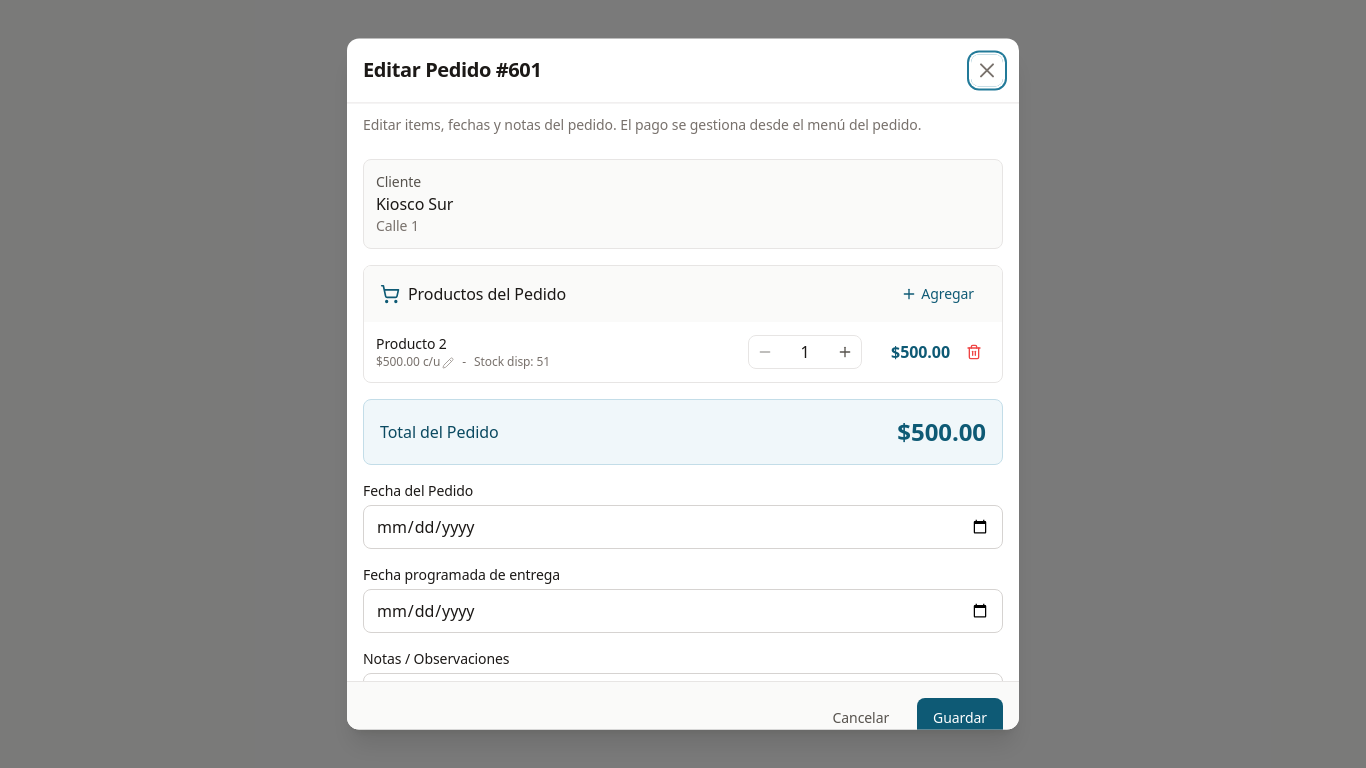
Test: ModalEditarPedido — alta de un producto en la edición › entra con su mínimo de venta (3), no con cantidad 1
Check: the text "Producto 2" is shown, box [376,334,447,354]
Click the button "Agregar" at (938, 294), box [889,278,986,310]
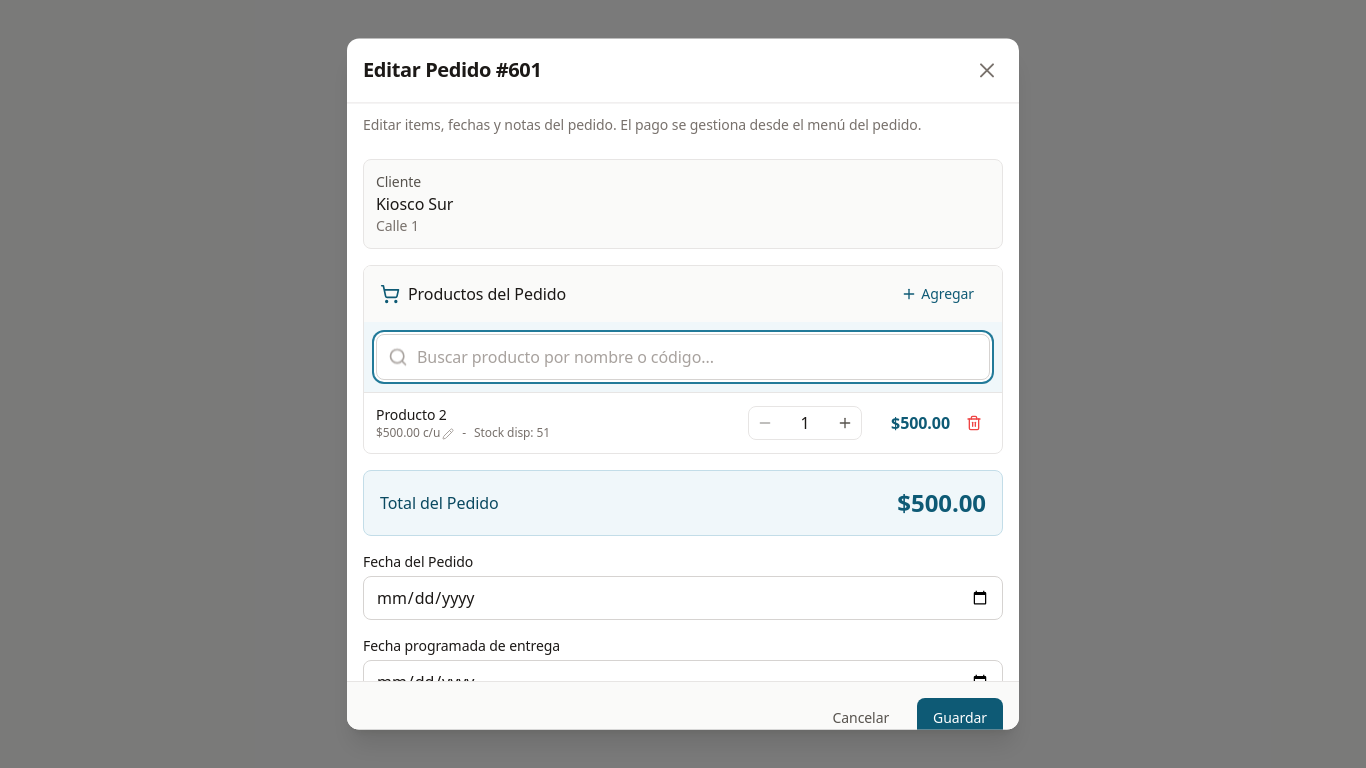
Type "Producto 4" into the field with placeholder "Buscar producto por nombre o código..." at (683, 357), box [376,334,990,380]
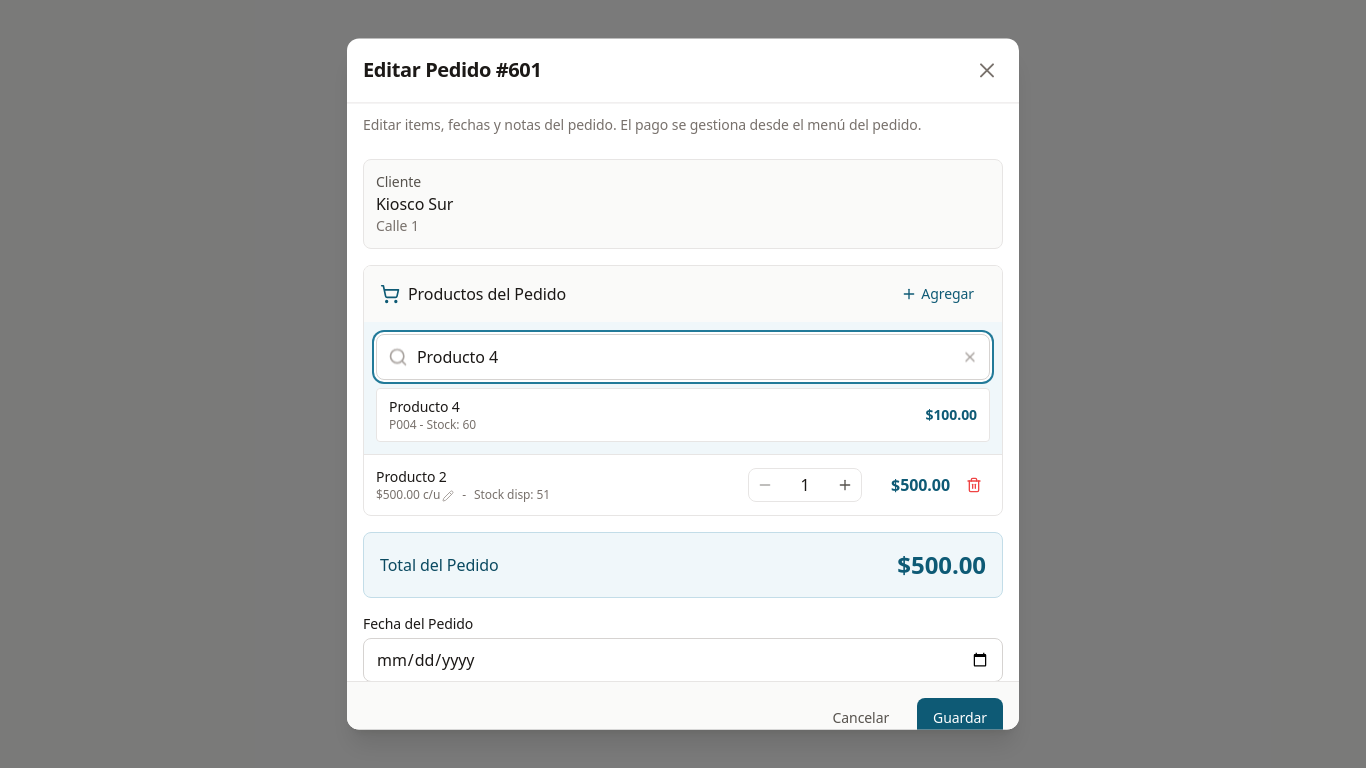
Click the text "P004 - Stock: 60" at (433, 425), box [389,417,476,433]
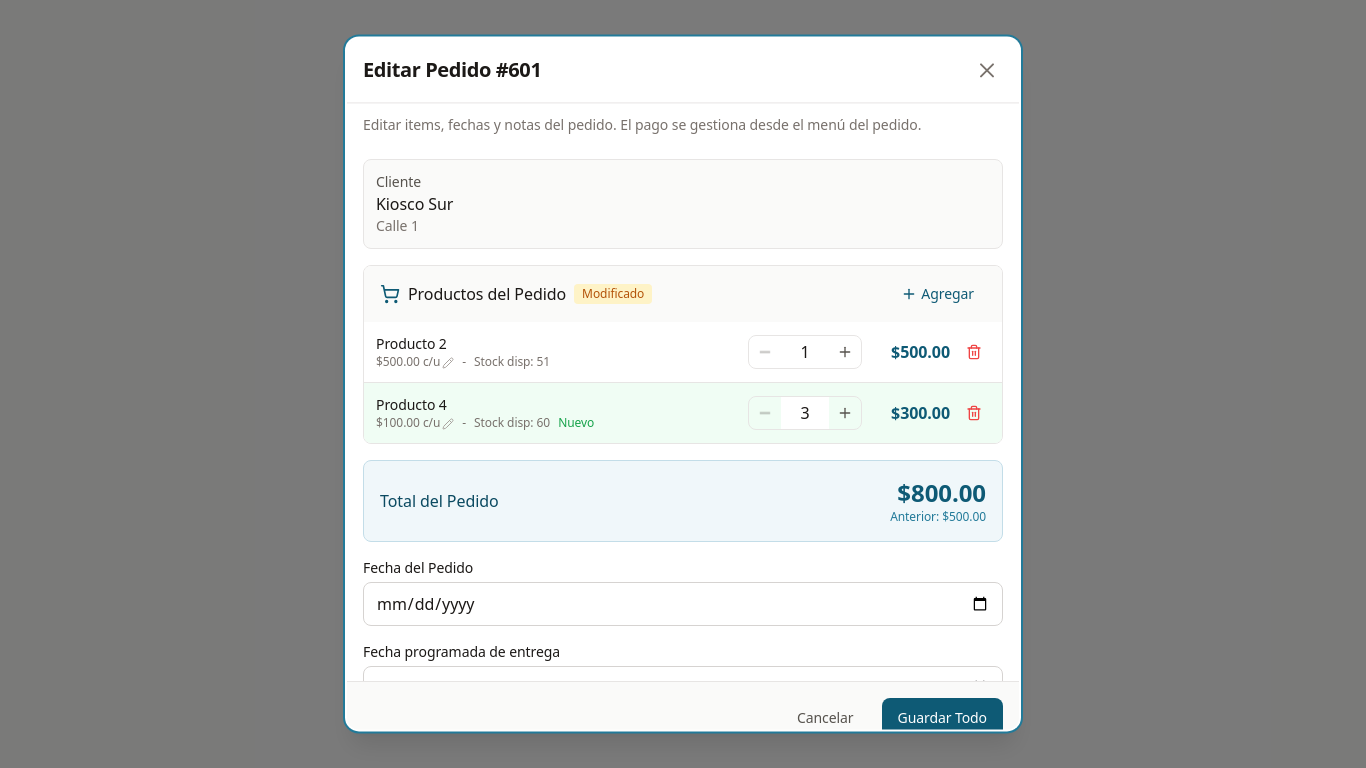
Check: the button "Guardar Todo" is enabled, box [882,698,1003,730]
Check: the field named "Cantidad" next to "$300.00" holds "3", box [781,397,829,429]
